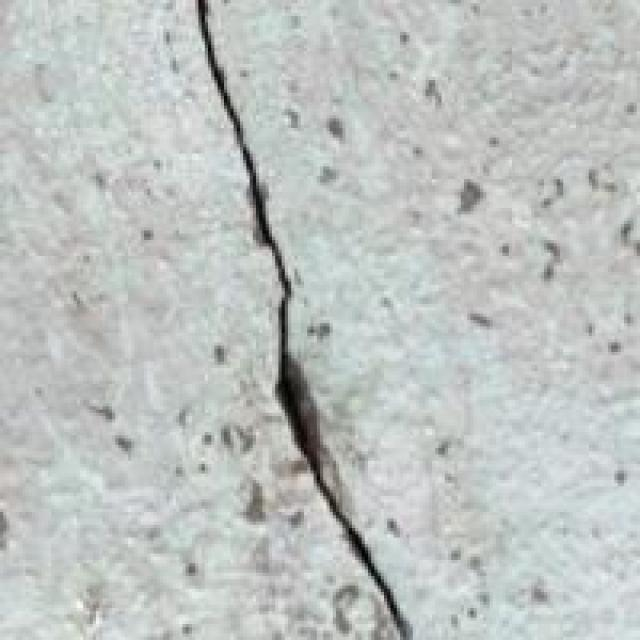crack: (160, 0, 474, 637)
